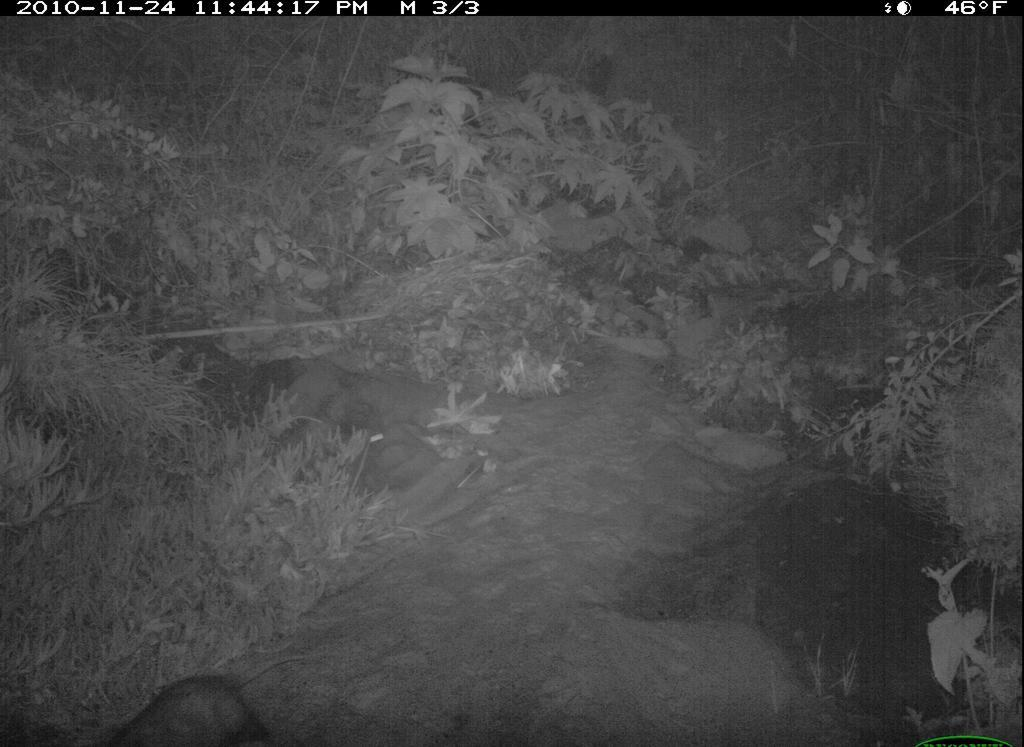opossum: (104, 641, 328, 747)
